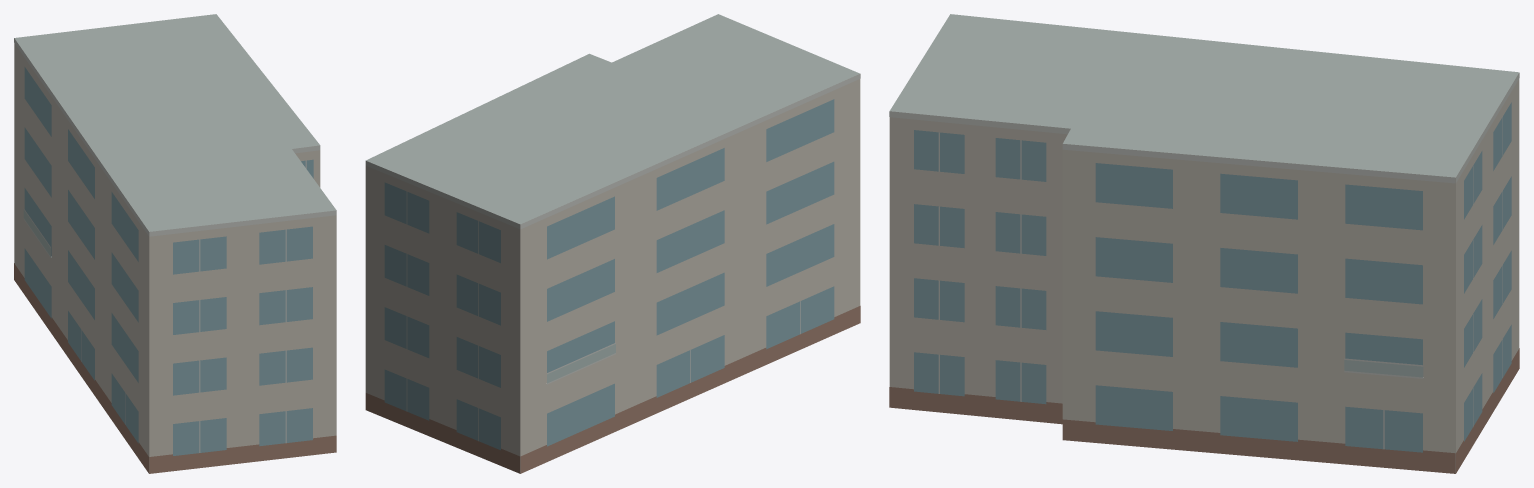
Rendered from survey-upis-32883971.glb.
3 views of the same model, side by side, from view 1: azimuth 30°, elevation 25°; view 2: azimuth 150°, elevation 25°; view 3: azimuth 270°, elevation 25° (orthographic). The views are drawn at different scales.
Visible parts, largest first — view 1: survey-upis-32883971.tmp; view 2: survey-upis-32883971.tmp; view 3: survey-upis-32883971.tmp.
Boxes of the visible parts, left/top/right/bottom form: survey-upis-32883971.tmp: left=14, top=14, right=336, bottom=473; survey-upis-32883971.tmp: left=365, top=14, right=860, bottom=473; survey-upis-32883971.tmp: left=889, top=14, right=1519, bottom=473.
Bounding box in the file's own units: 14.45 × 12.2 × 23.52.
